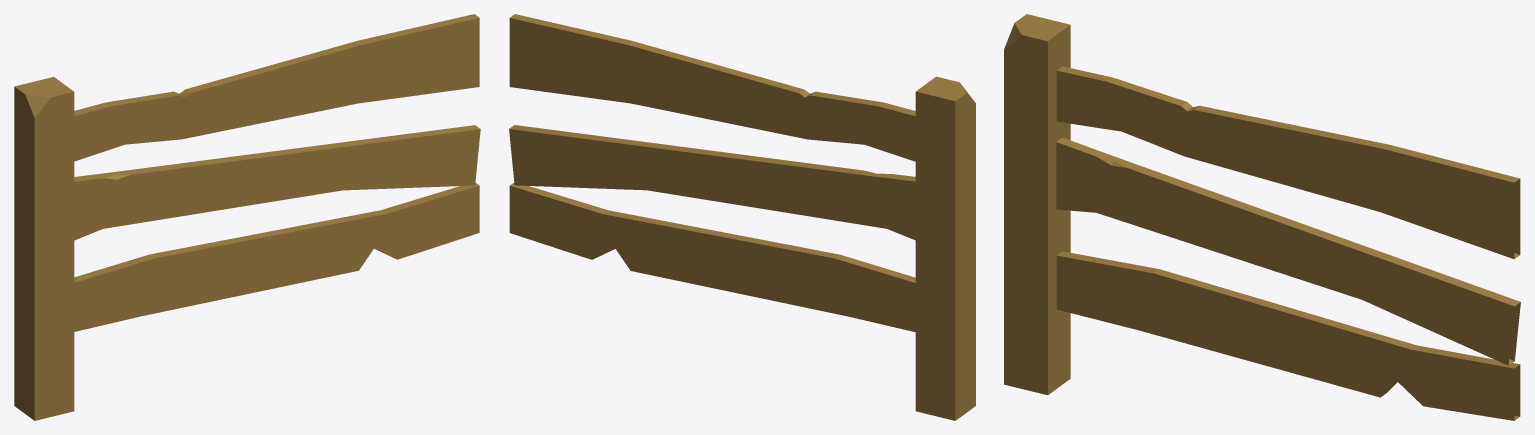
Rendered from SM_WFence_2.fbx.
3 renders of one model, left to right at view 1: azimuth 30°, elevation 25°; view 2: azimuth 150°, elevation 25°; view 3: azimuth 330°, elevation 25°, orthographic. The views are drawn at different scales.
Visible parts, largest first — view 1: Box048; view 2: Box048; view 3: Box048.
Boxes of the visible parts, <box> form: Box048: <box>14,14,480,420</box>; Box048: <box>509,14,975,420</box>; Box048: <box>1004,14,1520,420</box>.
Size of the model in its own units: 157 by 106 by 12.32.
